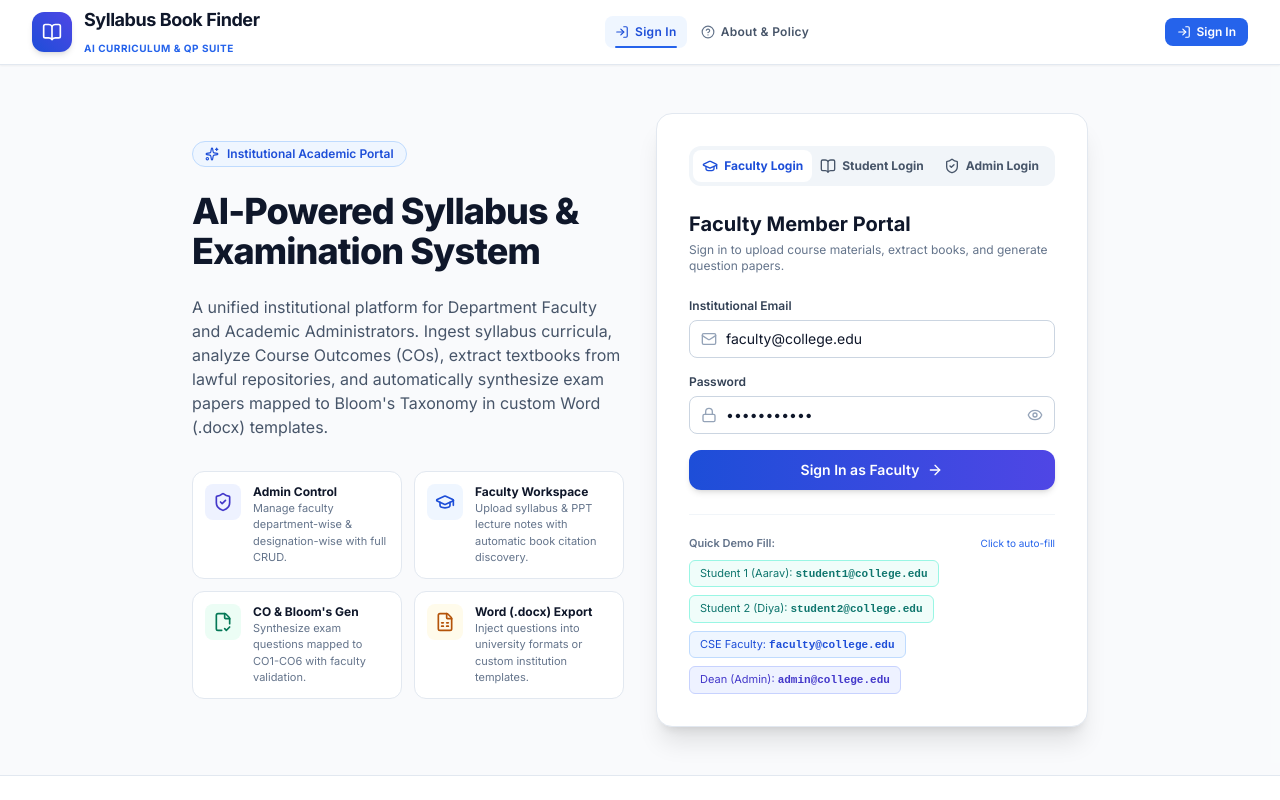
AI-Powered Syllabus & Examination System › switches to About & Policy page
The image size is (1280, 800).
Click the button "About & Policy": (755, 32) [691,16,819,48]
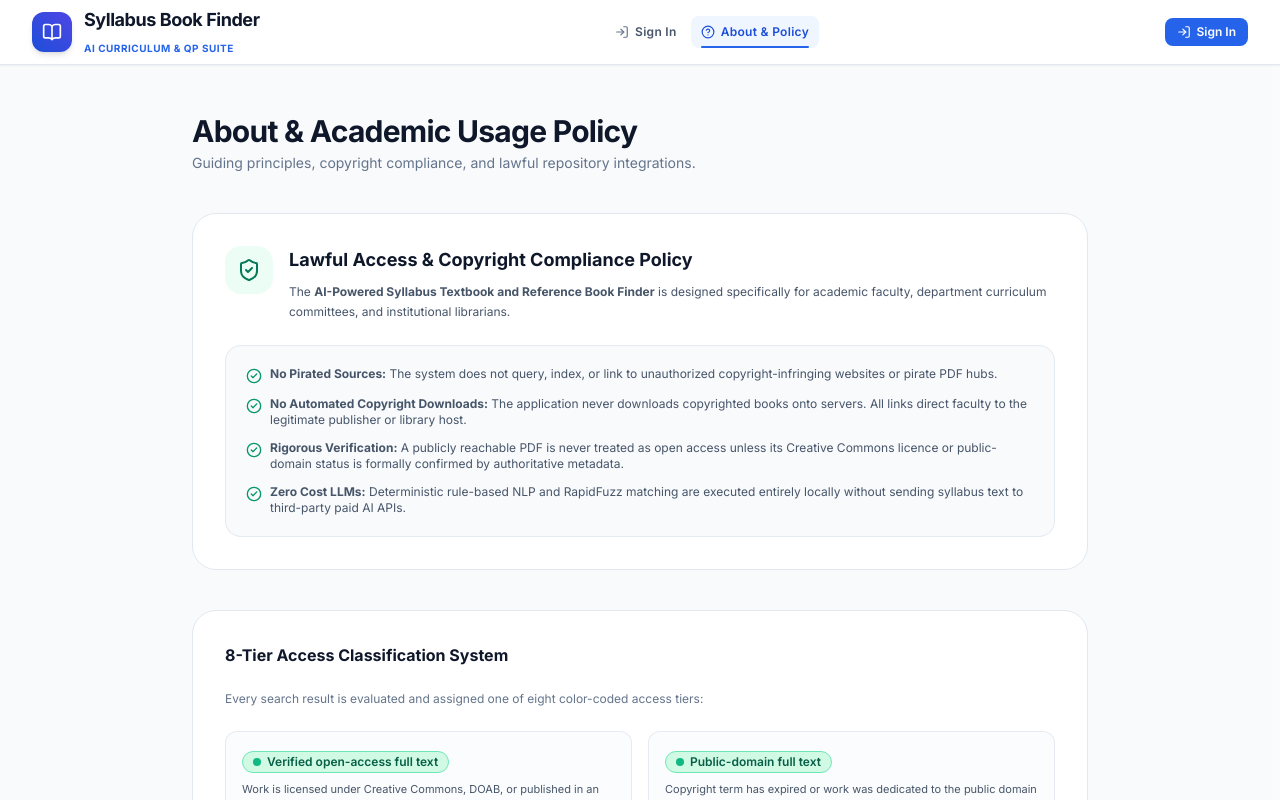
Now the heading "About & Academic Usage Policy" is shown, box [192,113,637,149]
